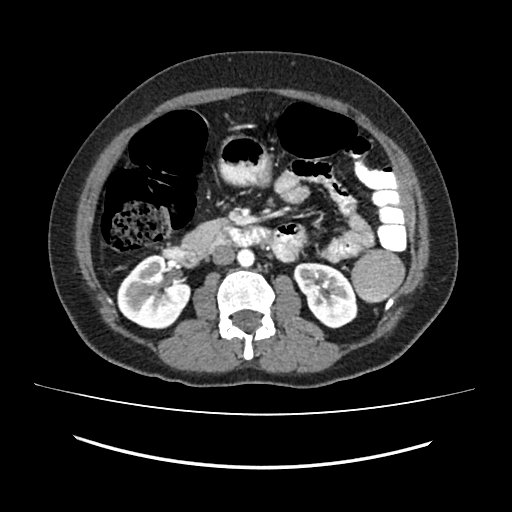aorta: (234, 246, 257, 268)
